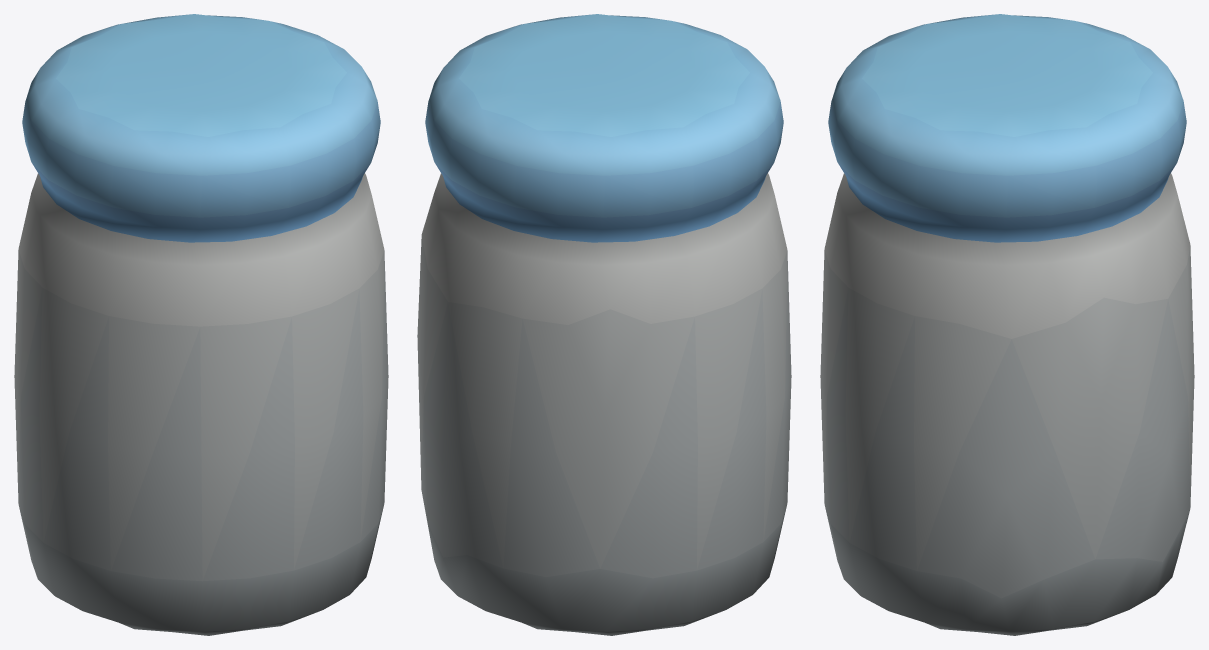
The model's file is prop_jar_a.glb.
3 renders of one model, left to right at view 1: azimuth 30°, elevation 25°; view 2: azimuth 150°, elevation 25°; view 3: azimuth 270°, elevation 25°, orthographic.
Parts seen in each view (by area): view 1: refined; view 2: refined; view 3: refined.
Boxes of the visible parts, box(x1,y1,x2,y2) form: refined: box(14, 14, 388, 635); refined: box(417, 14, 791, 635); refined: box(820, 14, 1194, 635).
Size of the model in its own units: 0.5 by 0.75 by 0.5.
